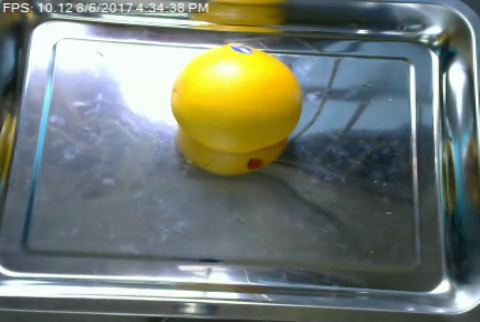Orange: (172, 44, 303, 153)
